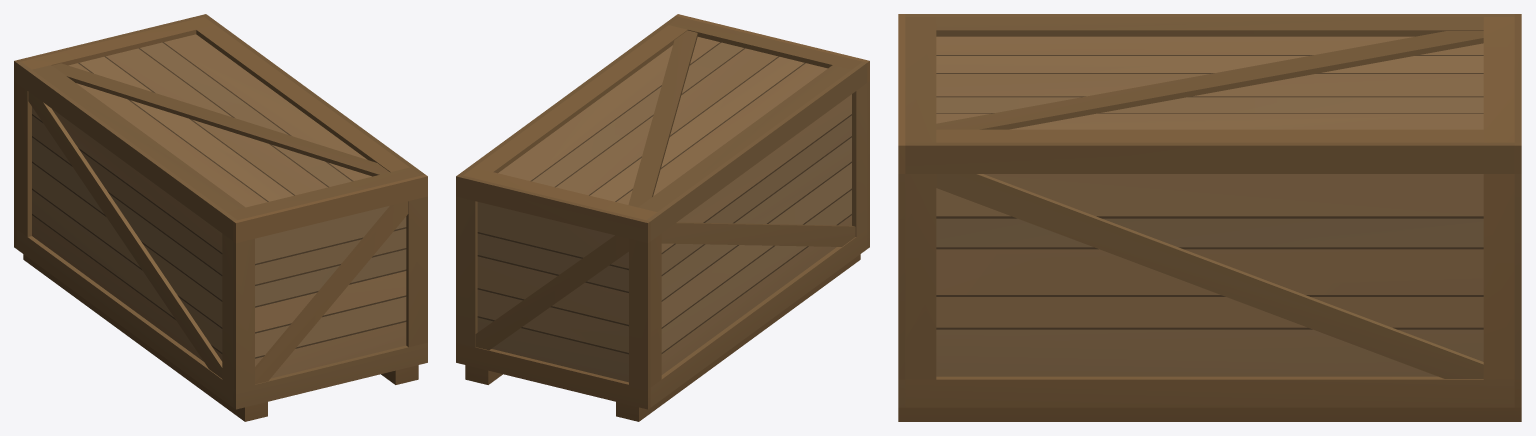
File: crate.wood_long.pine.glb
The picture shows the model from 3 angles, left to right: view 1: azimuth 30°, elevation 25°; view 2: azimuth 150°, elevation 25°; view 3: azimuth 270°, elevation 25°; orthographic projection. The views are drawn at different scales.
Visible parts, largest first — view 1: crate_wood_long_pine; view 2: crate_wood_long_pine; view 3: crate_wood_long_pine.
Boxes of the visible parts, x1,y1,x2,y2 form: crate_wood_long_pine: (14, 14, 427, 421); crate_wood_long_pine: (456, 14, 869, 421); crate_wood_long_pine: (898, 14, 1521, 421).
Size of what is drawn, in the model's own units: 1.1 by 1.1 by 2.2.
